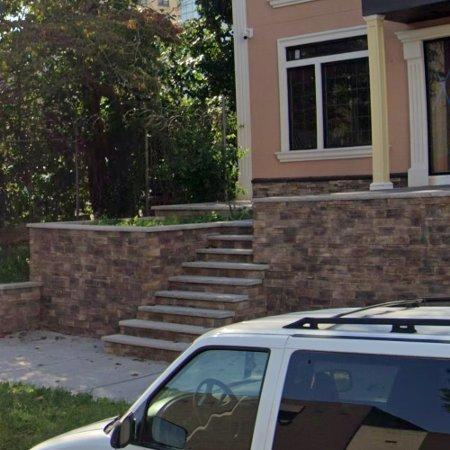stairs: (103, 226, 268, 363)
